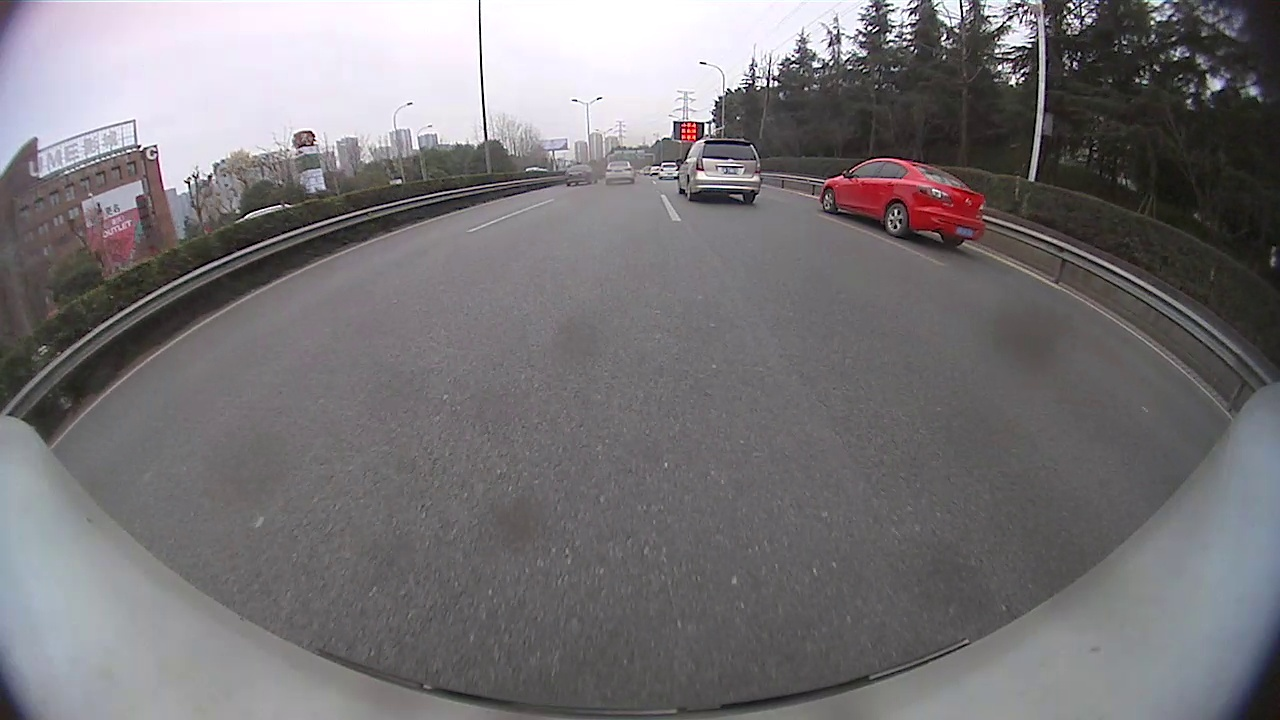car: (818, 156, 988, 248), (675, 135, 765, 204), (565, 164, 597, 187), (606, 160, 636, 183)
front: (821, 190, 836, 215)
rear: (885, 204, 909, 237)
